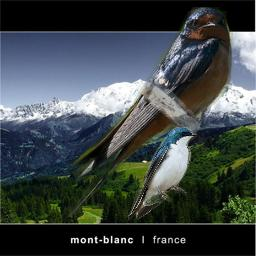Swallow: (67, 7, 233, 217), (128, 127, 197, 220)
